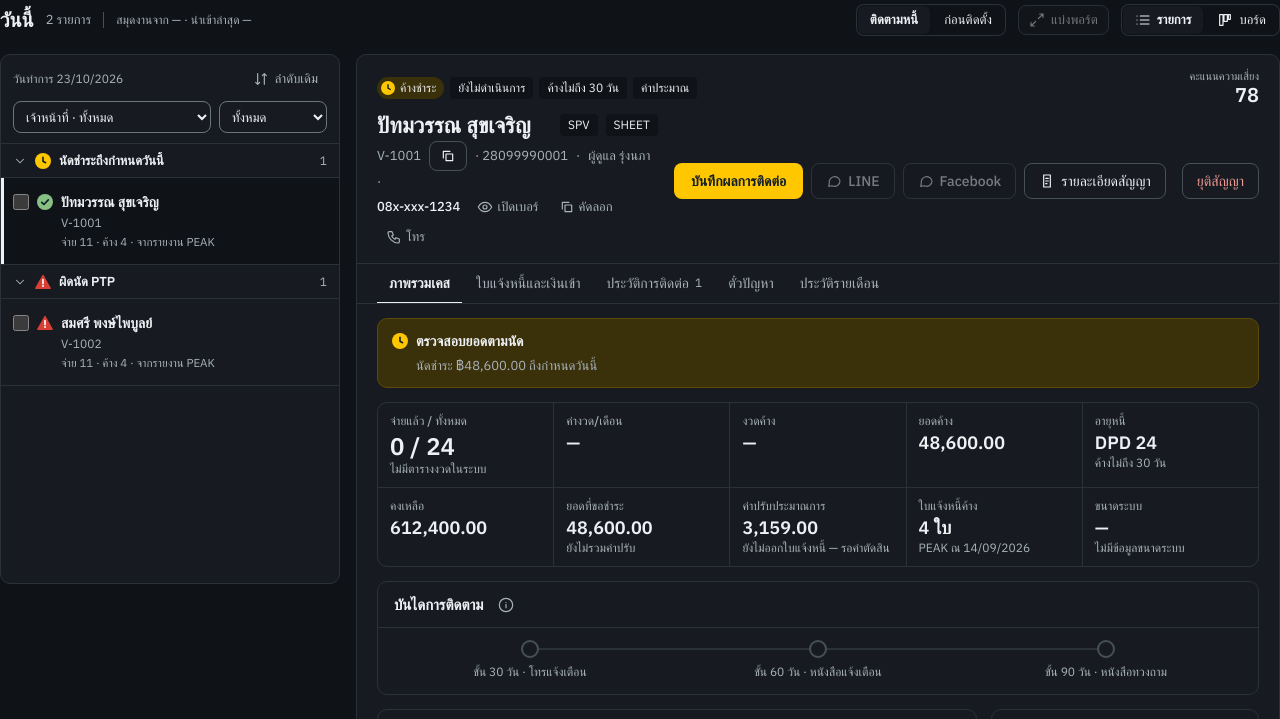
Scenario: Today › says so when the filtered list is empty, with a way back
Expected: the text "นัดชำระถึงกำหนดวันนี้" is shown, [59, 152, 164, 168]
Select "ยังไม่มอบหมาย · —" in the dropdown named "เจ้าหน้าที่" at (112, 117), box [13, 101, 211, 133]
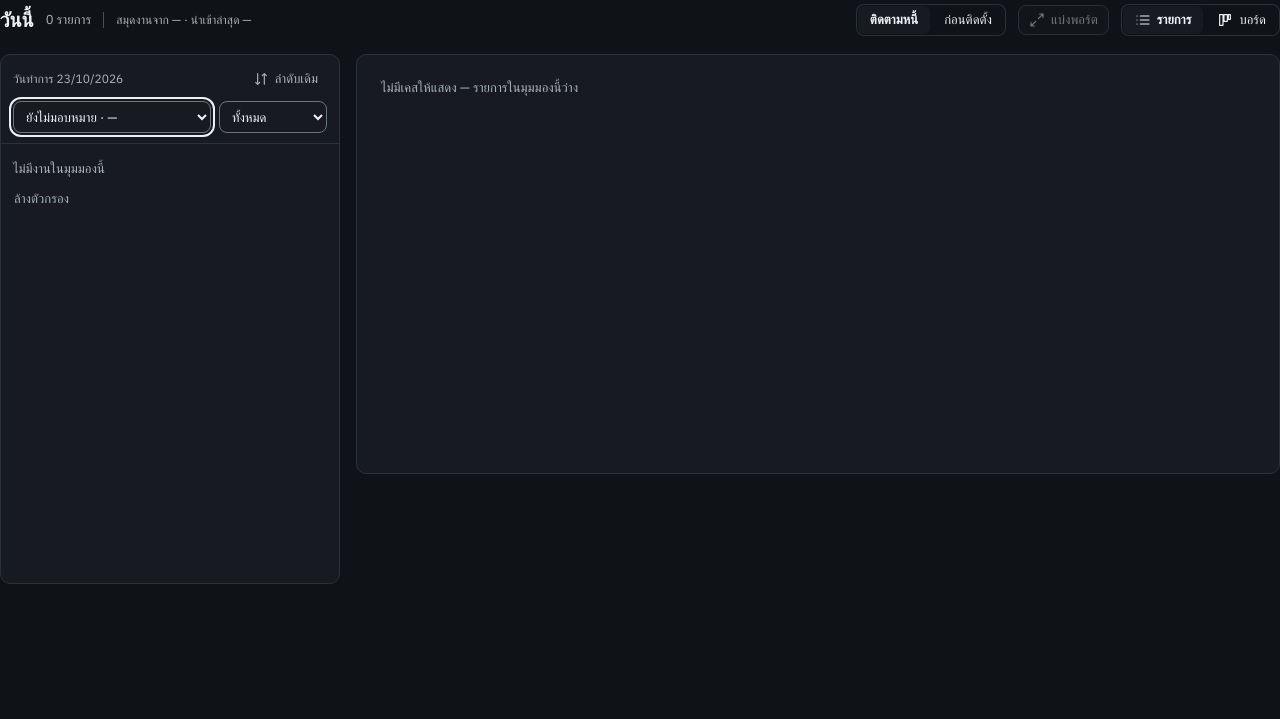
Now the text "ไม่มีงานในมุมมองนี้" is shown, box [13, 160, 105, 178]
Now the text "ไม่มีเคสให้แสดง — รายการในมุมมองนี้ว่าง" is shown, box [356, 54, 1279, 474]
Click the button "ล้างตัวกรอง" at (42, 199), box [3, 184, 80, 214]
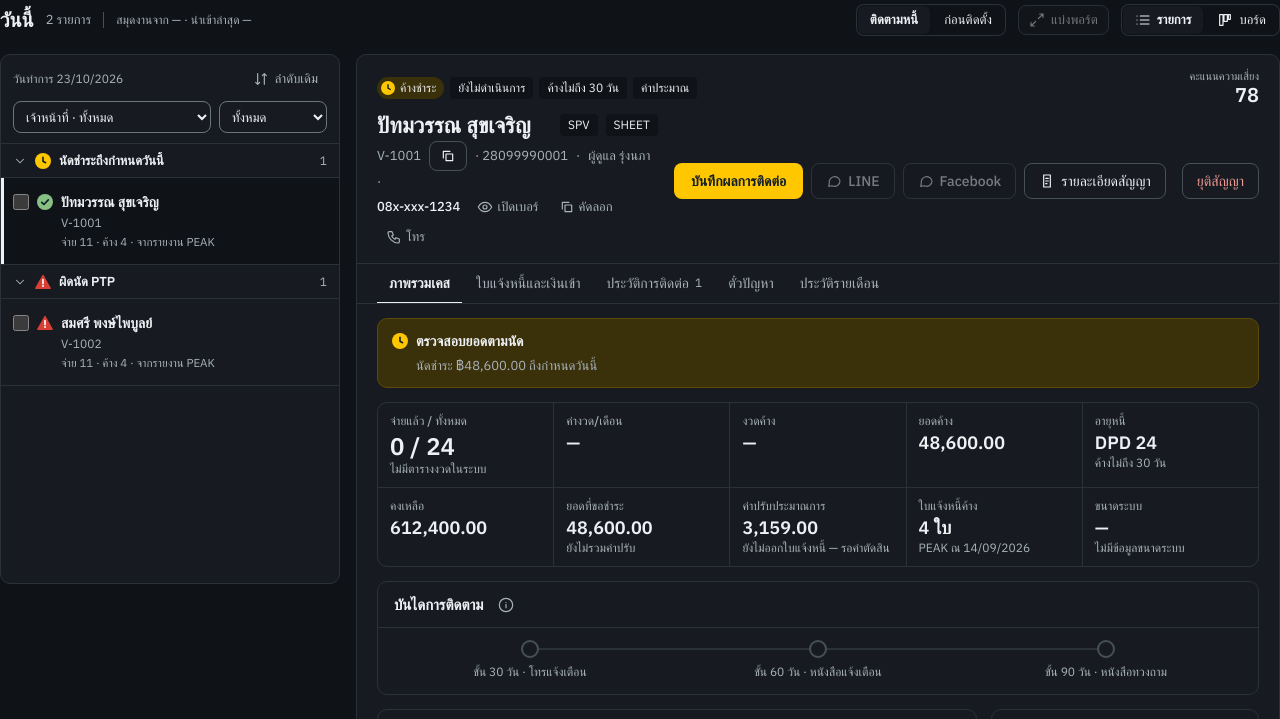
Now the text "นัดชำระถึงกำหนดวันนี้" is shown, box [59, 152, 164, 168]
